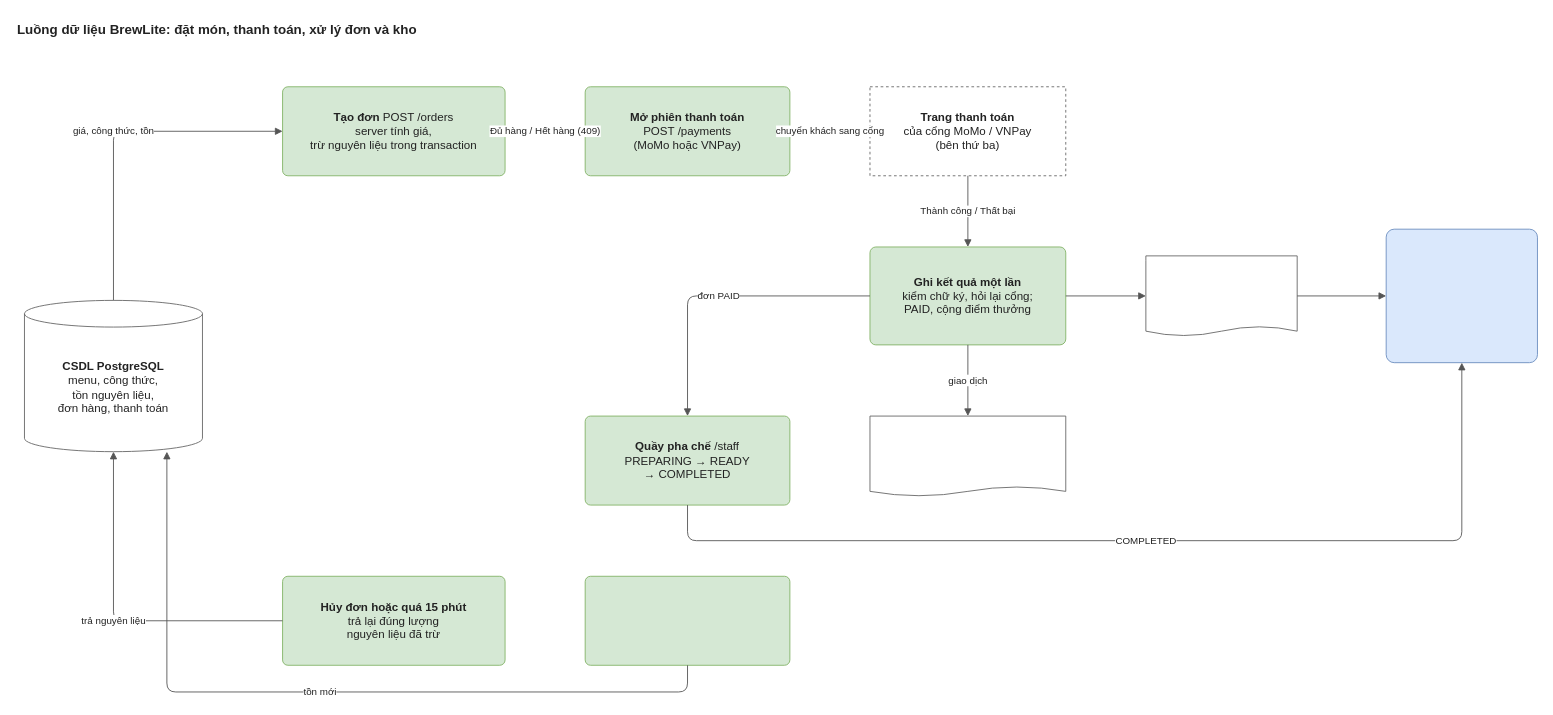
Some shapes in this 1553 by 715 pixel diagram are drawn without their labels. The shapes that lost their labels are listed below. From the top down, each one's centre as x and y in pixels, then its label:
point 1221,295: Biên lai mã giao dịch của cổng
point 1461,295: Kết quả: đơn hoàn tất, biên lai, điểm thưởng, số ly còn bán cập nhật
point 967,455: Doanh thu /admin/revenue tiền đã vào, cần hoàn tiền
point 687,620: Nhập kho /admin/ingredients cộng tồn nguyên liệu
